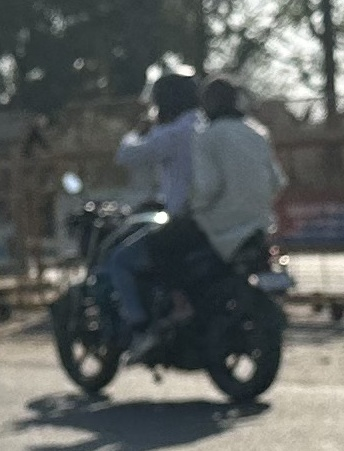BikeWithRider: (38, 61, 303, 408)
Helmet: (139, 68, 206, 128)
NoHelmet: (192, 71, 258, 127)
